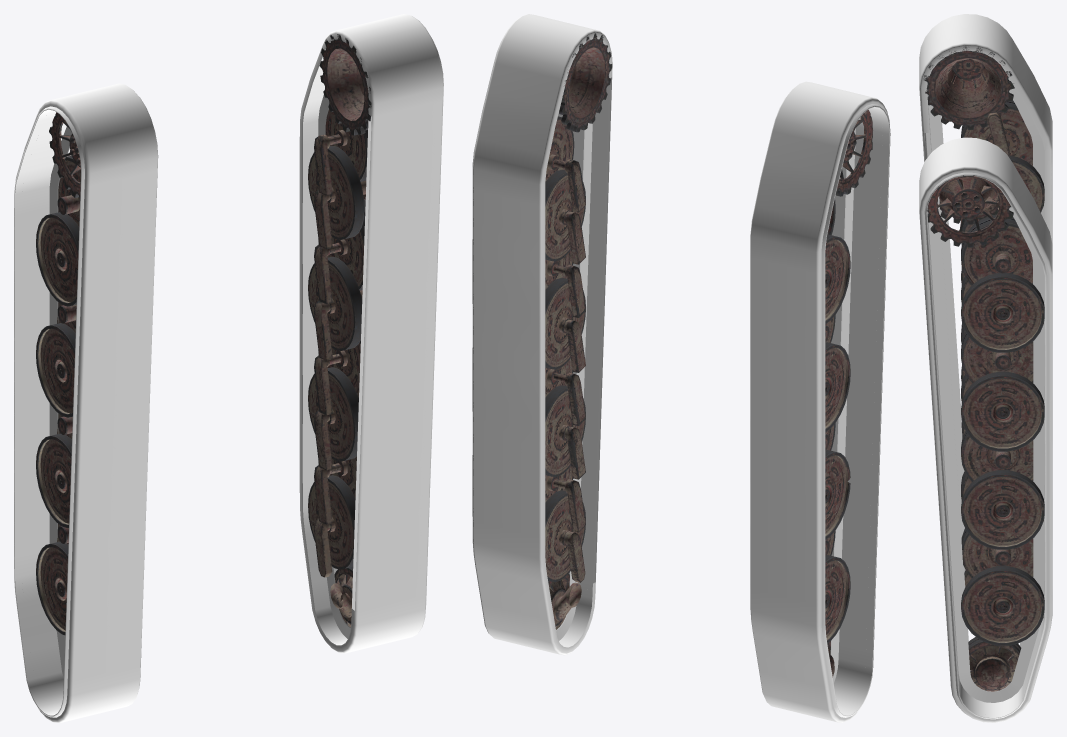
File: Chassis.glb
3 views of the same model, side by side, from view 1: azimuth 30°, elevation 25°; view 2: azimuth 150°, elevation 25°; view 3: azimuth 270°, elevation 25° (orthographic). The views are drawn at different scales.
Parts seen in each view (by area): view 1: set_0_group_0, set_1_group_0, set_3_group_0, set_2_group_0; view 2: set_0_group_0, set_1_group_0, set_3_group_0, set_2_group_0; view 3: set_3_group_0, set_1_group_0, set_0_group_0, set_2_group_0.
Boxes of the visible parts, bbox=[...] form: set_0_group_0: bbox=[14, 83, 158, 722]; set_1_group_0: bbox=[299, 14, 443, 653]; set_3_group_0: bbox=[308, 34, 371, 627]; set_2_group_0: bbox=[36, 112, 80, 635]; set_0_group_0: bbox=[750, 81, 890, 722]; set_1_group_0: bbox=[472, 14, 612, 655]; set_3_group_0: bbox=[545, 33, 612, 629]; set_2_group_0: bbox=[825, 109, 872, 677]; set_3_group_0: bbox=[927, 176, 1044, 691]; set_1_group_0: bbox=[919, 137, 1052, 722]; set_0_group_0: bbox=[919, 14, 1052, 572]; set_2_group_0: bbox=[923, 46, 1044, 489].
Bounding box in the file's own units: 3.55 × 5.86 × 1.27.
4 materials, 2 textured.
